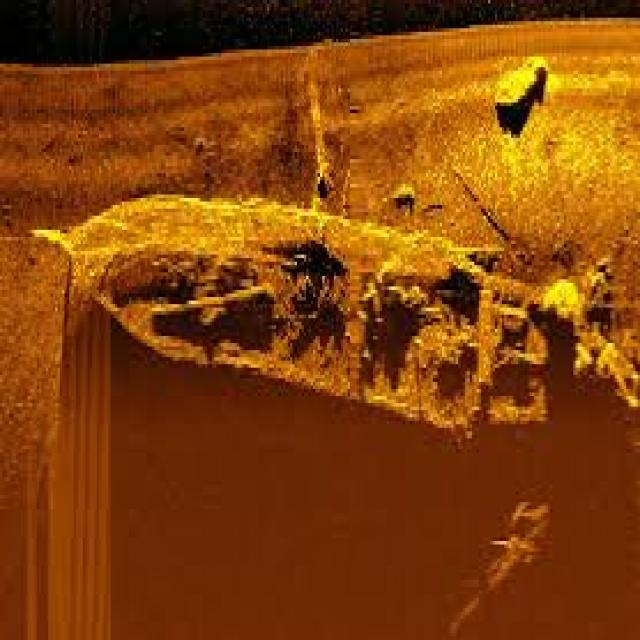ship: (48, 188, 587, 432)
